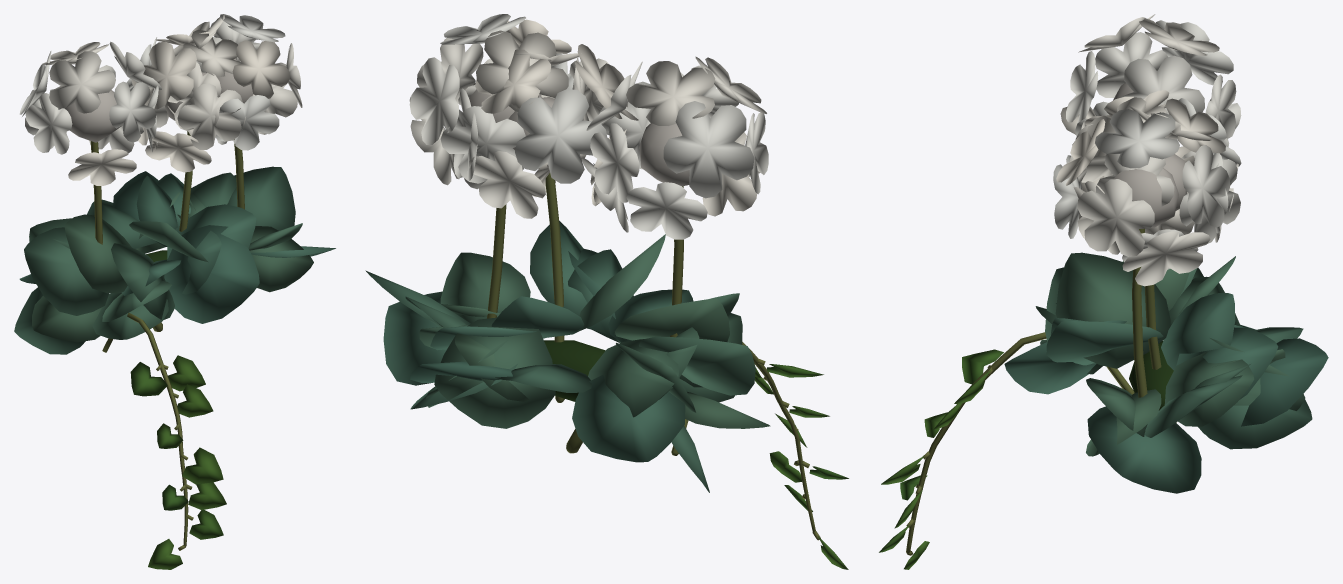
Rendered from box_geranium_white.glb.
3 views of the same model, side by side, from view 1: azimuth 30°, elevation 25°; view 2: azimuth 150°, elevation 25°; view 3: azimuth 270°, elevation 25° (orthographic). The views are drawn at different scales.
Visible parts, largest first — view 1: Sammel Pflanze, Sammel Putz; view 2: Sammel Pflanze, Sammel Putz, Sammel Blatt; view 3: Sammel Pflanze, Sammel Putz, Sammel Blatt.
Boxes of the visible parts, box(x1,y1,x2,y2) form: Sammel Pflanze: box(14, 14, 335, 569); Sammel Putz: box(90, 131, 244, 550); Sammel Pflanze: box(365, 14, 848, 569); Sammel Putz: box(487, 173, 820, 540); Sammel Blatt: box(544, 340, 605, 401); Sammel Pflanze: box(879, 14, 1328, 569); Sammel Putz: box(906, 228, 1176, 555); Sammel Blatt: box(1129, 341, 1173, 410).
Size of the model in its own units: 0.3844 by 0.5554 by 0.4057.
